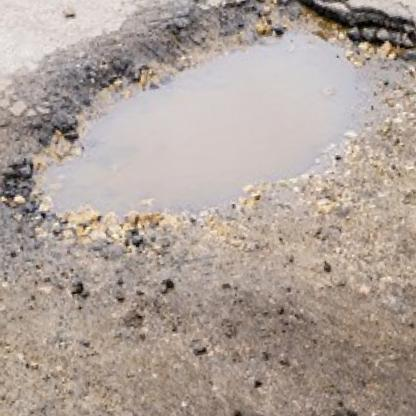pothole: (0, 0, 416, 248)
